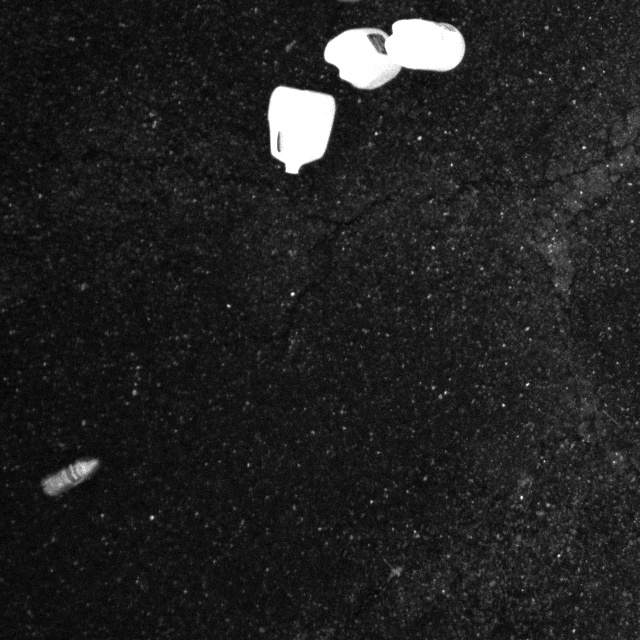bottle: (35, 451, 97, 492)
can: (260, 83, 338, 171), (320, 23, 409, 100), (382, 12, 469, 76)
